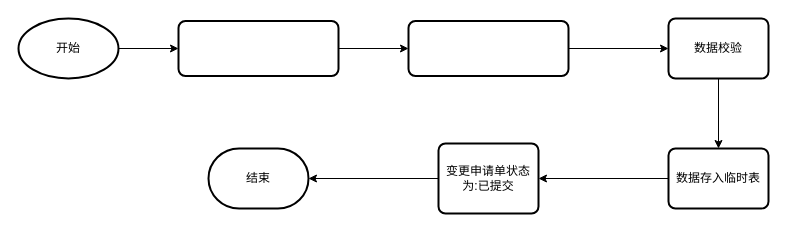
Some shapes in this 786 by 231 pixel diagram are drawn without their labels. Here are the shapes that lost their labels. From the top down, the box of each, then its label:
(177, 20, 339, 76): 申请单状态校验 （审批中的或作废的不能填报）
(407, 20, 569, 76): 填报时间判断 （未到填报时间或逾期的不能填报）
